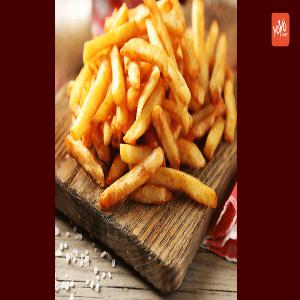fries_350cal: (68, 7, 236, 209)
